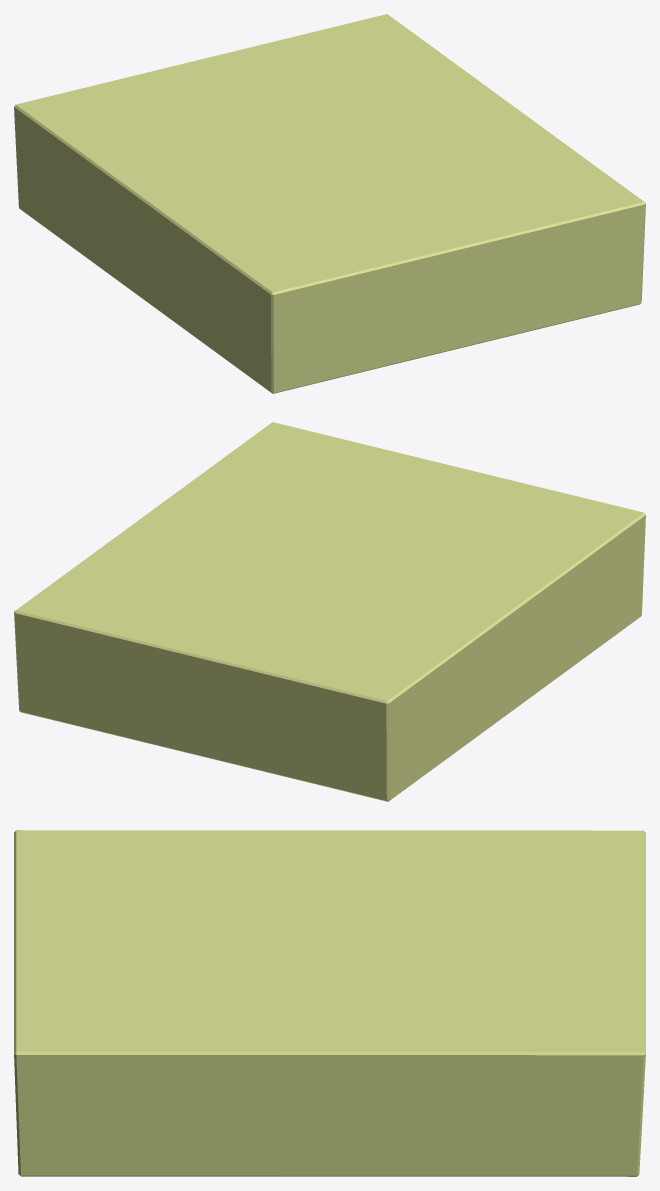
3 views of the same model, one above another, from view 1: azimuth 30°, elevation 25°; view 2: azimuth 150°, elevation 25°; view 3: azimuth 270°, elevation 25° (orthographic). The views are drawn at different scales.
Visible parts, largest first — view 1: file_box_11; view 2: file_box_11; view 3: file_box_11.
Part boxes in pixels (box(x1,y1,x2,y2)): file_box_11: box(14, 14, 645, 393); file_box_11: box(14, 422, 645, 801); file_box_11: box(14, 830, 645, 1176).
Bounding box in the file's own units: 0.2869 × 0.0759 × 0.343.
